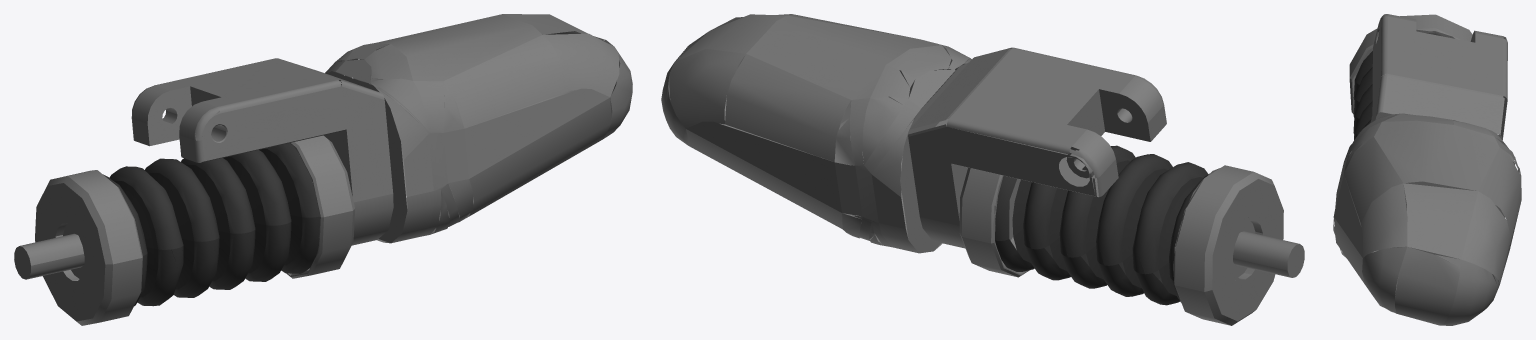
The model's file is handl_finger_index2_joint.obj.
3 renders of one model, left to right at view 1: azimuth 30°, elevation 25°; view 2: azimuth 150°, elevation 25°; view 3: azimuth 270°, elevation 25°, orthographic. The views are drawn at different scales.
Size of the model in its own units: 0.0606 by 0.0192 by 0.0176.
1 material, 1 textured.
